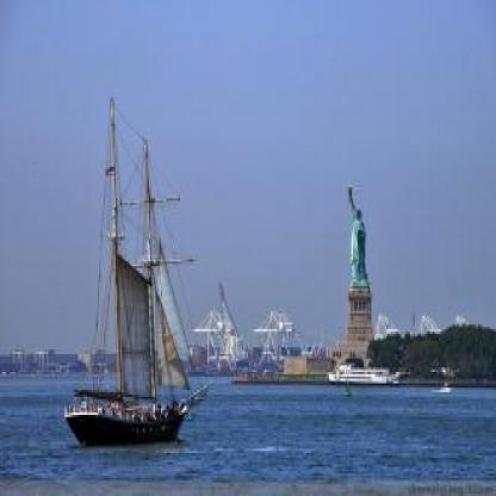Ship: (27, 103, 216, 443)
